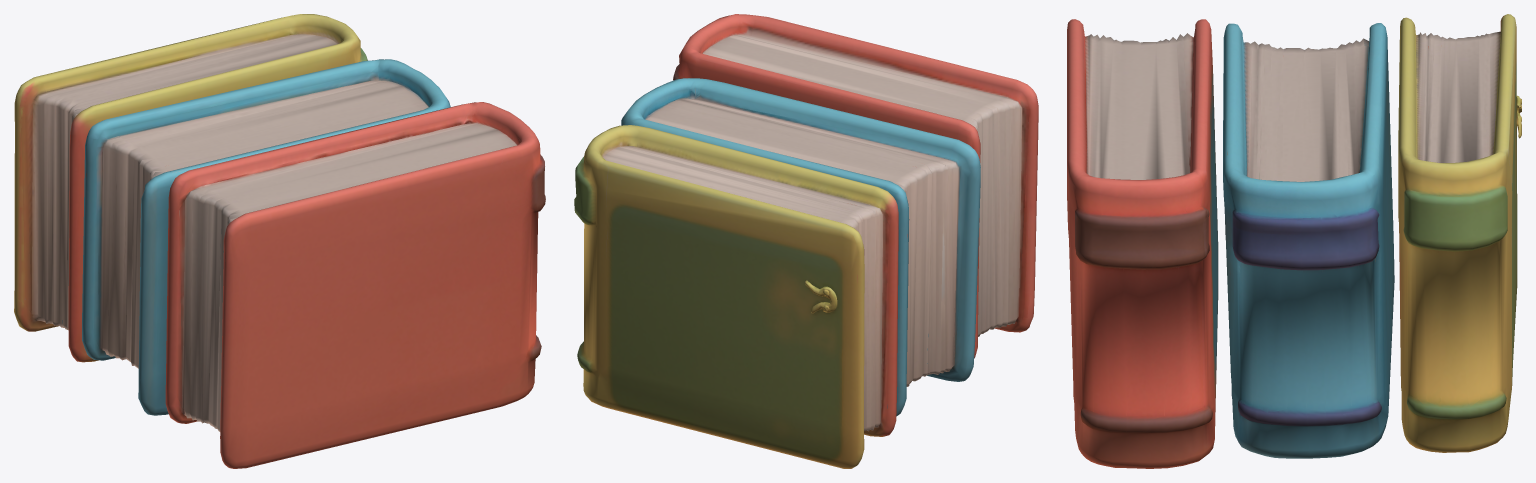
The model's file is tile16.glb.
The picture shows the model from 3 angles, left to right: view 1: azimuth 30°, elevation 25°; view 2: azimuth 150°, elevation 25°; view 3: azimuth 270°, elevation 25°; orthographic projection. The views are drawn at different scales.
Parts seen in each view (by area): view 1: tripo_node_630bdbe1-9b90-4773-ae7e-4bcaa3d6e476; view 2: tripo_node_630bdbe1-9b90-4773-ae7e-4bcaa3d6e476; view 3: tripo_node_630bdbe1-9b90-4773-ae7e-4bcaa3d6e476.
Part boxes in pixels (bbox=[...]): tripo_node_630bdbe1-9b90-4773-ae7e-4bcaa3d6e476: bbox=[14, 14, 545, 468]; tripo_node_630bdbe1-9b90-4773-ae7e-4bcaa3d6e476: bbox=[574, 14, 1038, 468]; tripo_node_630bdbe1-9b90-4773-ae7e-4bcaa3d6e476: bbox=[1067, 14, 1521, 468].
Bounding box in the file's own units: 0.9824 × 0.7051 × 0.998.
Materials: 1 (1 with a texture image).
